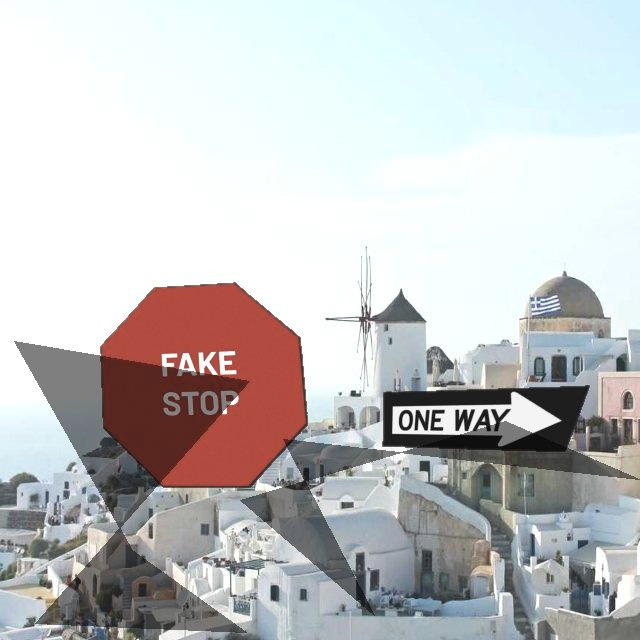FAKE_STOP: (100, 282, 308, 488)
ONE_WAY_ right: (382, 385, 590, 452)
